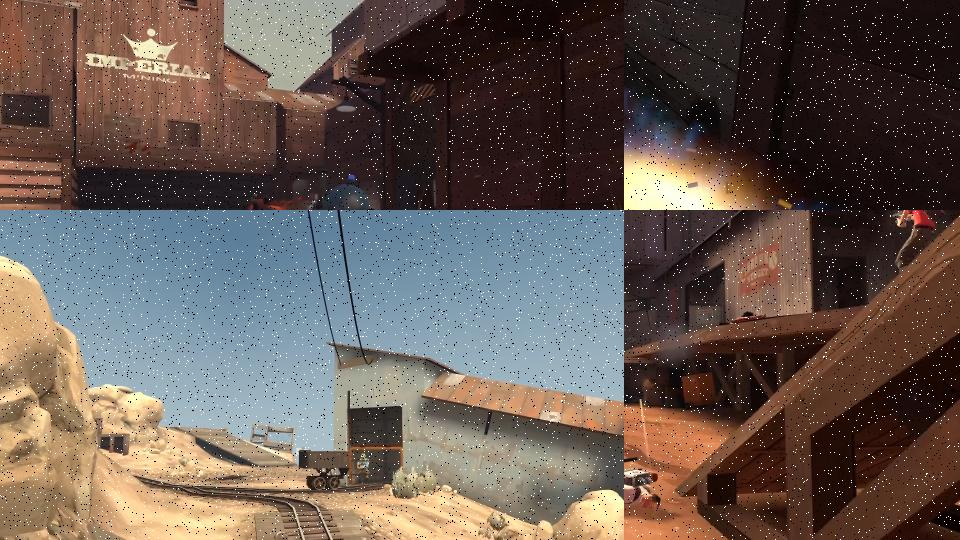Enemy: (878, 210, 947, 280), (624, 447, 668, 518), (239, 192, 289, 210), (357, 453, 371, 484)
